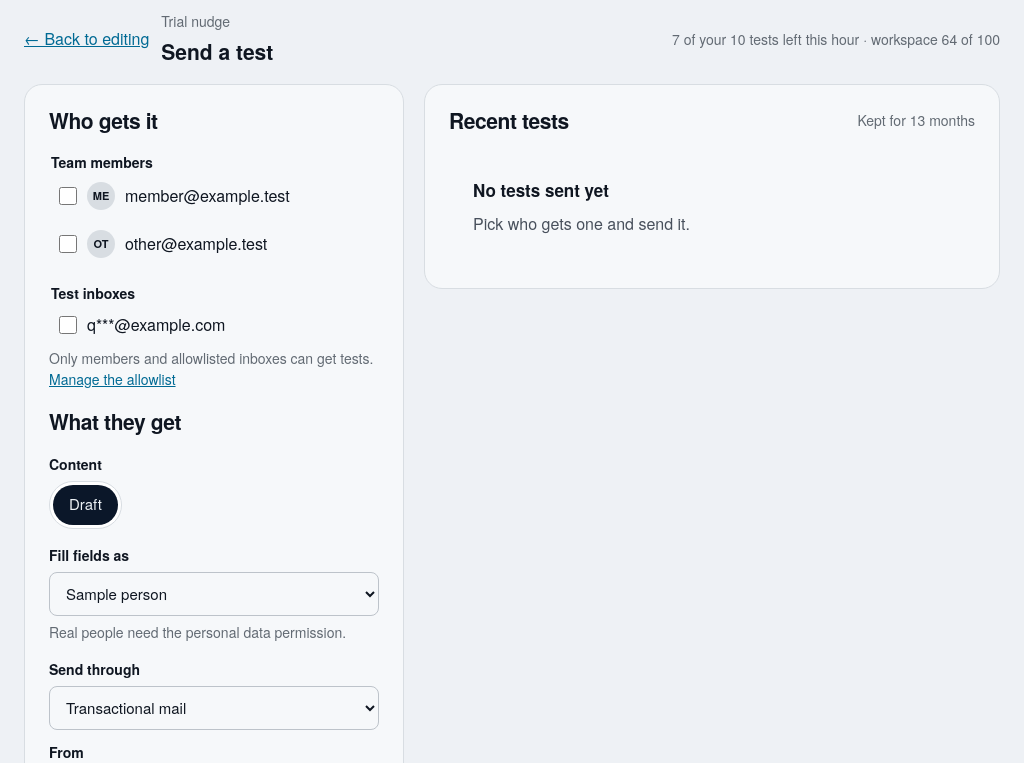
Test: the Send a test page › stops the rest at a 429 and shows the reset time
Select "Transactional mail" in the dropdown labelled "Send through". click: (214,708)
box: [49,686,379,730]
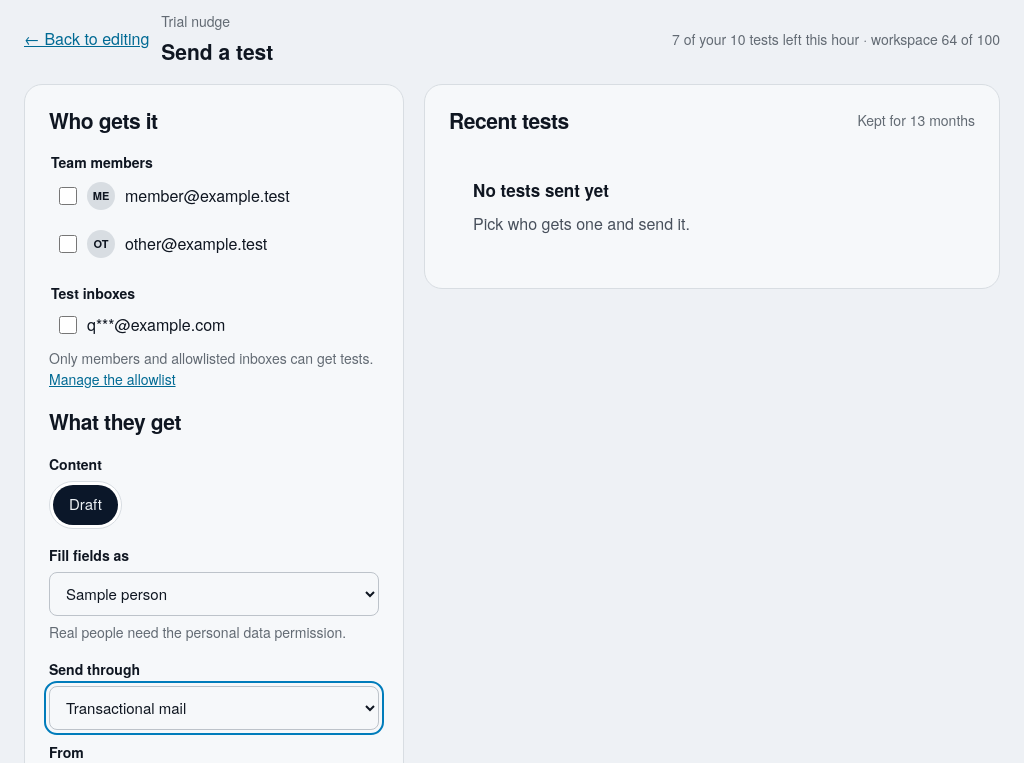
Click the checkbox labelled "member@example.test". click: (68,196)
box: [59,187,77,205]
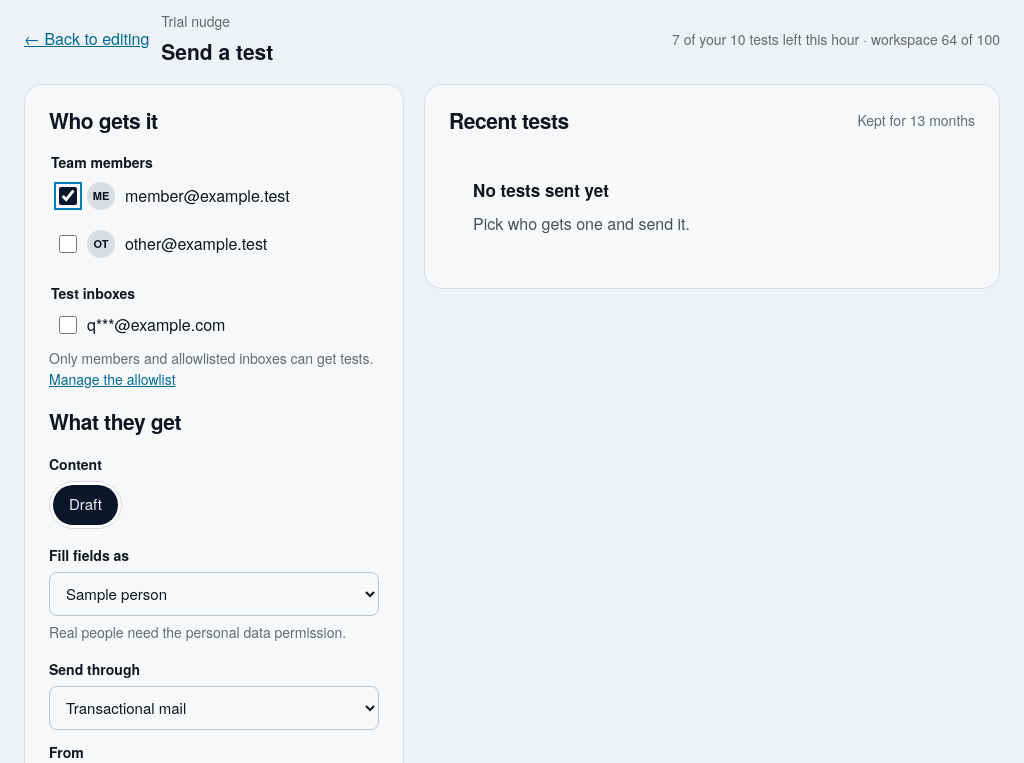
Click the checkbox labelled "other@example.test". click: (68,244)
box: [59,235,77,253]
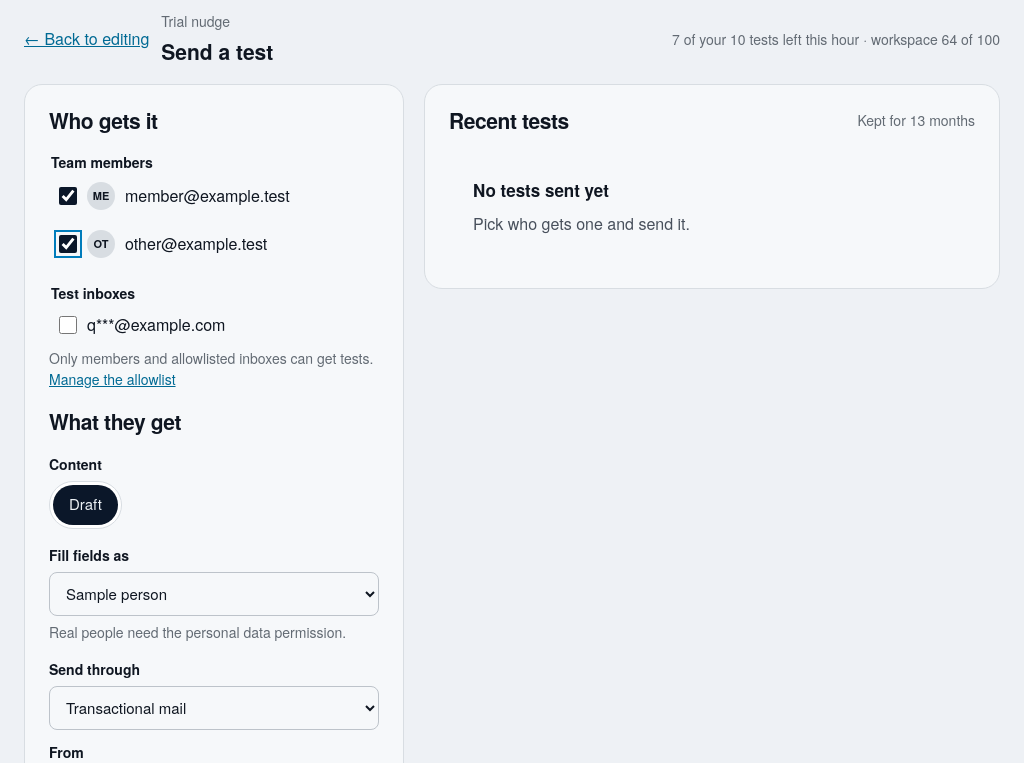
Click the checkbox labelled "q***@example.com". click: (68,325)
box: [59,316,77,334]
(page scrolled)
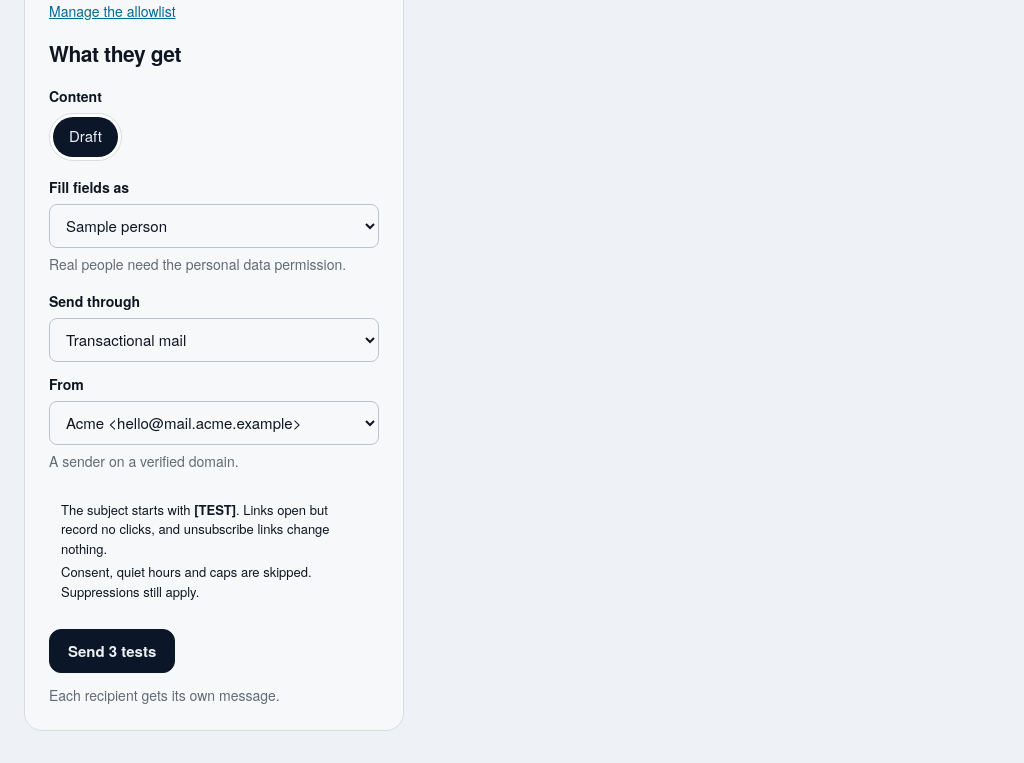
Click the button "Send 3 tests". click: (112,651)
box: [49,629,175,673]
(page scrolled)
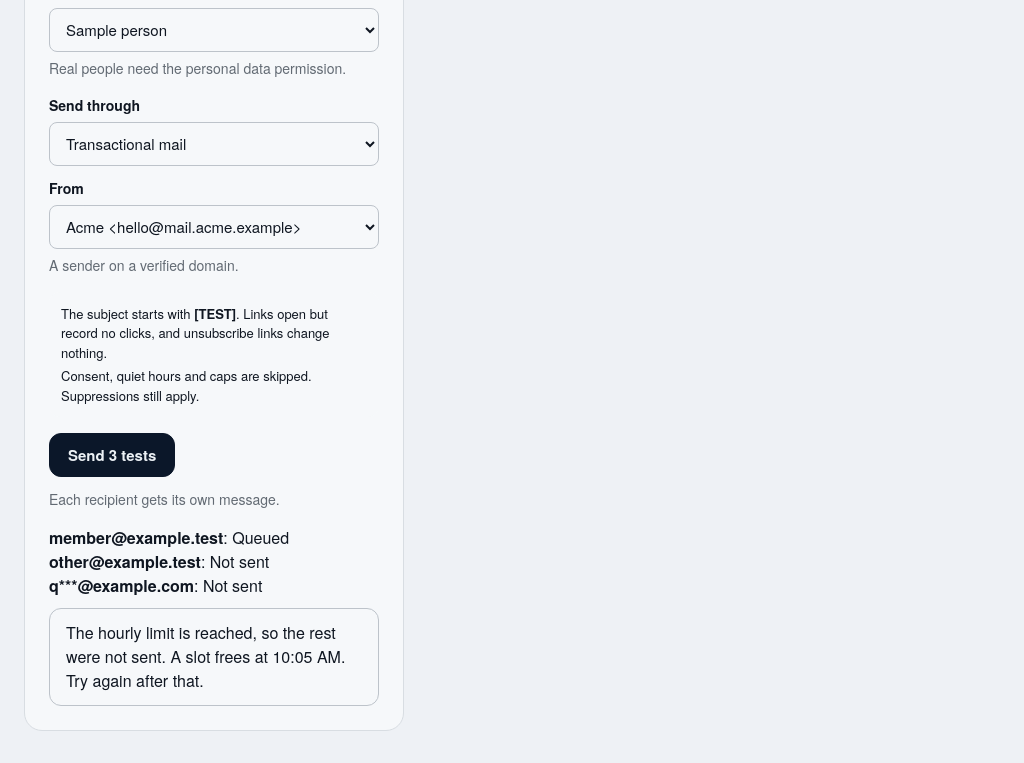
expect the list item "other@example.test: Not sent" is shown: met, box [49,550,269,573]
expect the list item "q***@example.com: Not sent" is shown: met, box [49,574,262,597]
